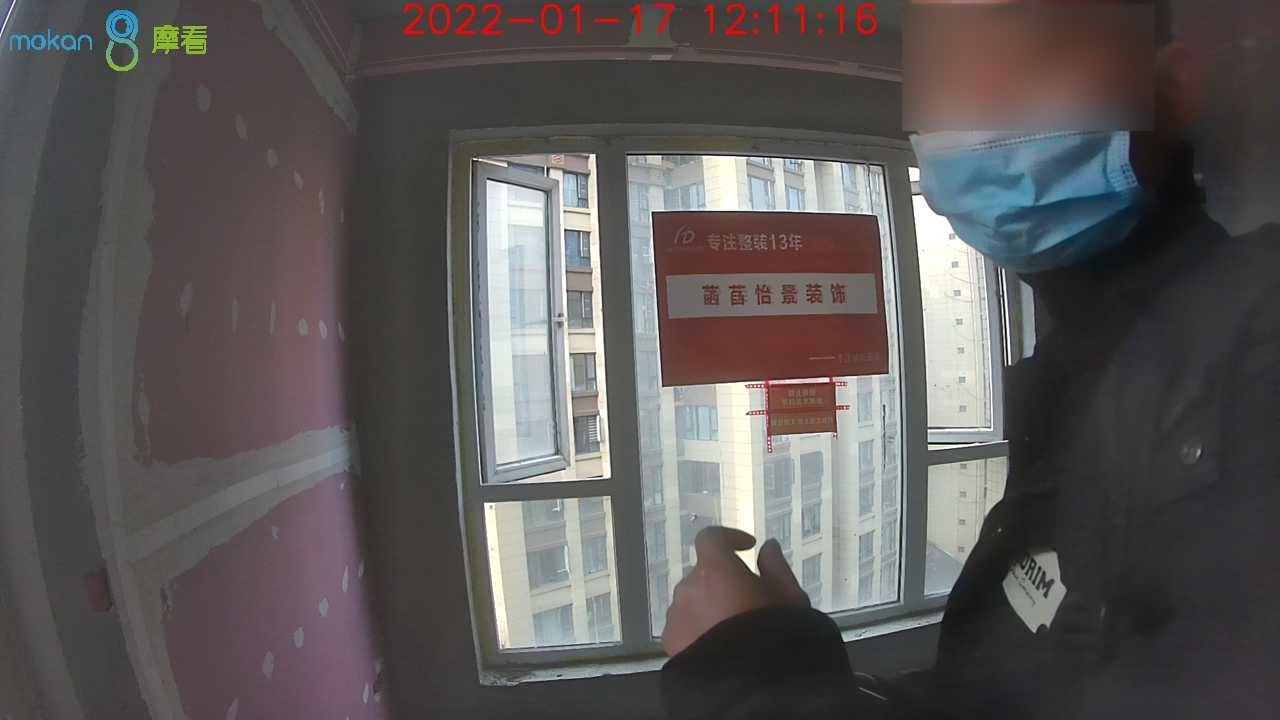people: (660, 2, 1280, 720)
window: (471, 144, 1043, 658)
